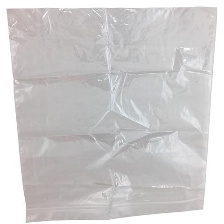plastic_bag: (0, 4, 220, 224)
